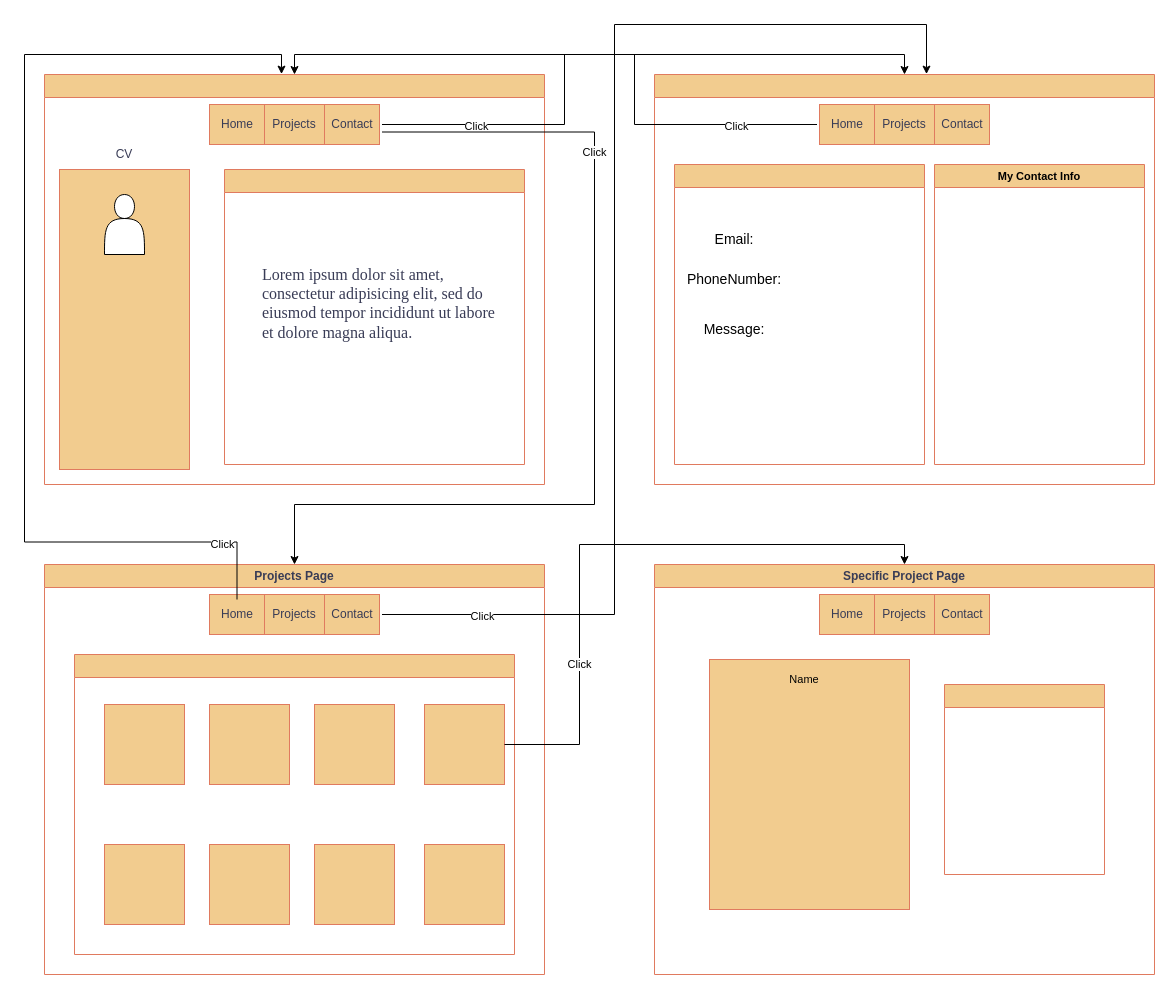
Some shapes in this 1172 by 992 pixel diagram are drawn without their labels. The box of each missing label's shape, as (x1, y1, x2, y2) in pixels:
About: (224, 168, 524, 464)
Contact Page: (654, 74, 1154, 484)
Different Projects: (74, 654, 514, 954)
Email Form: (674, 164, 924, 464)
Home Page: (44, 74, 544, 484)
Project Description: (944, 684, 1104, 874)
